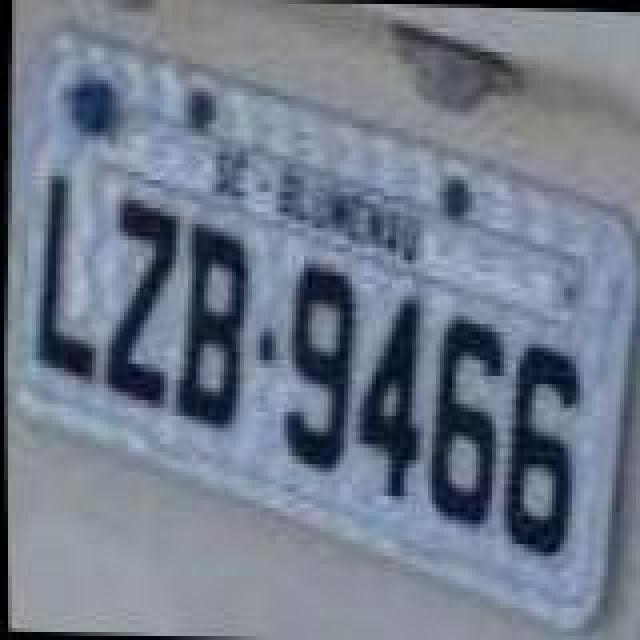4: (346, 288, 426, 500)
6: (496, 338, 588, 558), (420, 310, 508, 530)
9: (270, 258, 358, 478)
B: (170, 214, 254, 434)
L: (28, 170, 104, 386)
Z: (96, 190, 184, 406)
